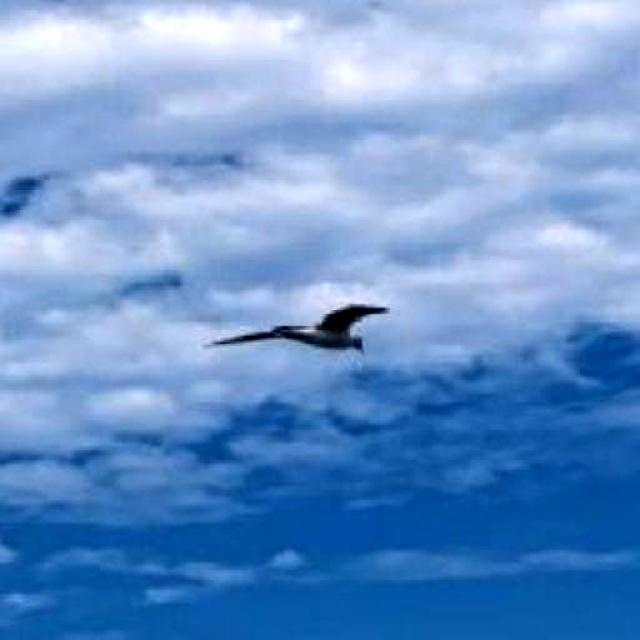airplane: (208, 301, 386, 358)
